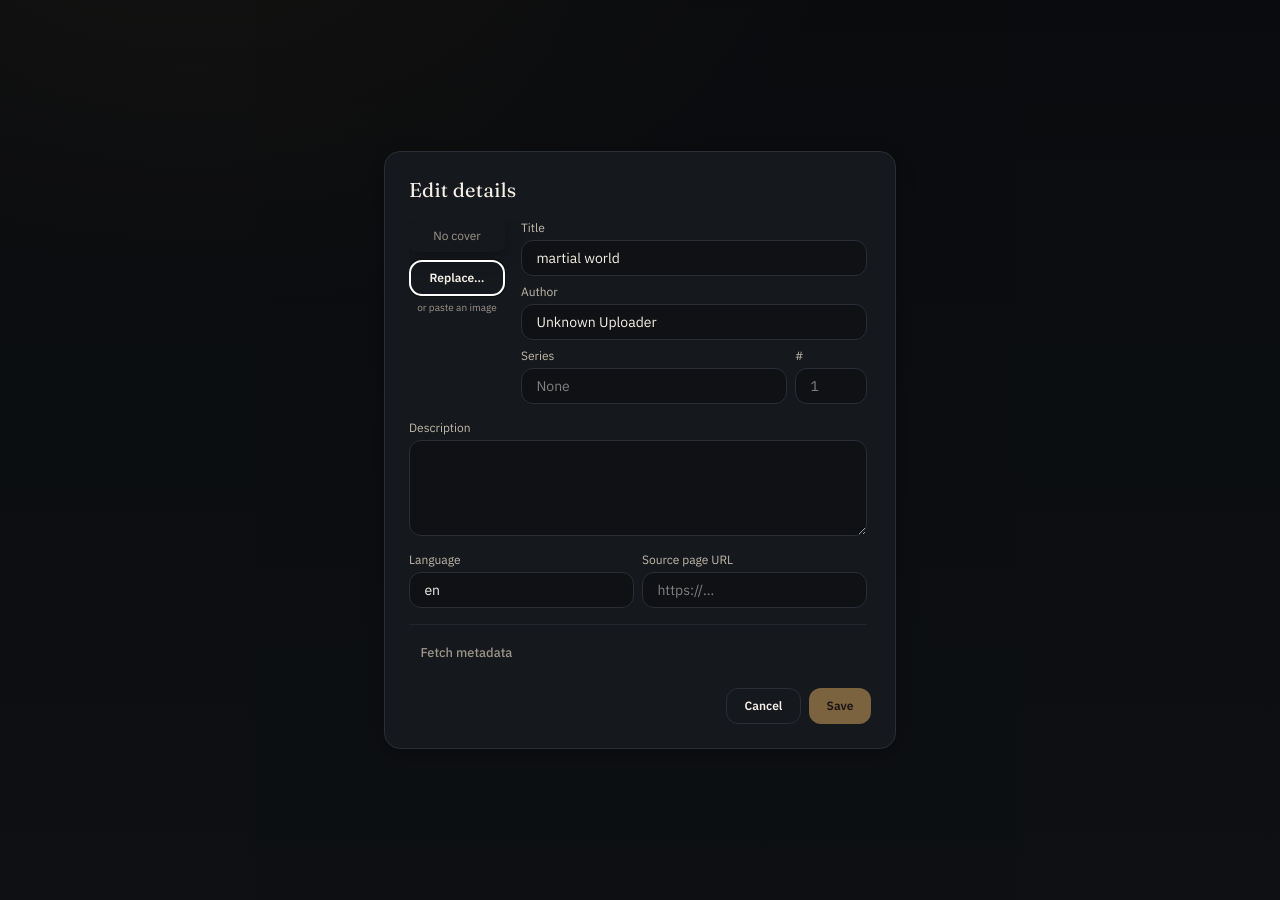
EditBookDialog › keeps saved details and offers paste guidance when a candidate cover can't be fetched
Click the button "Fetch metadata" at x=466, y=653, box [409, 637, 524, 668]
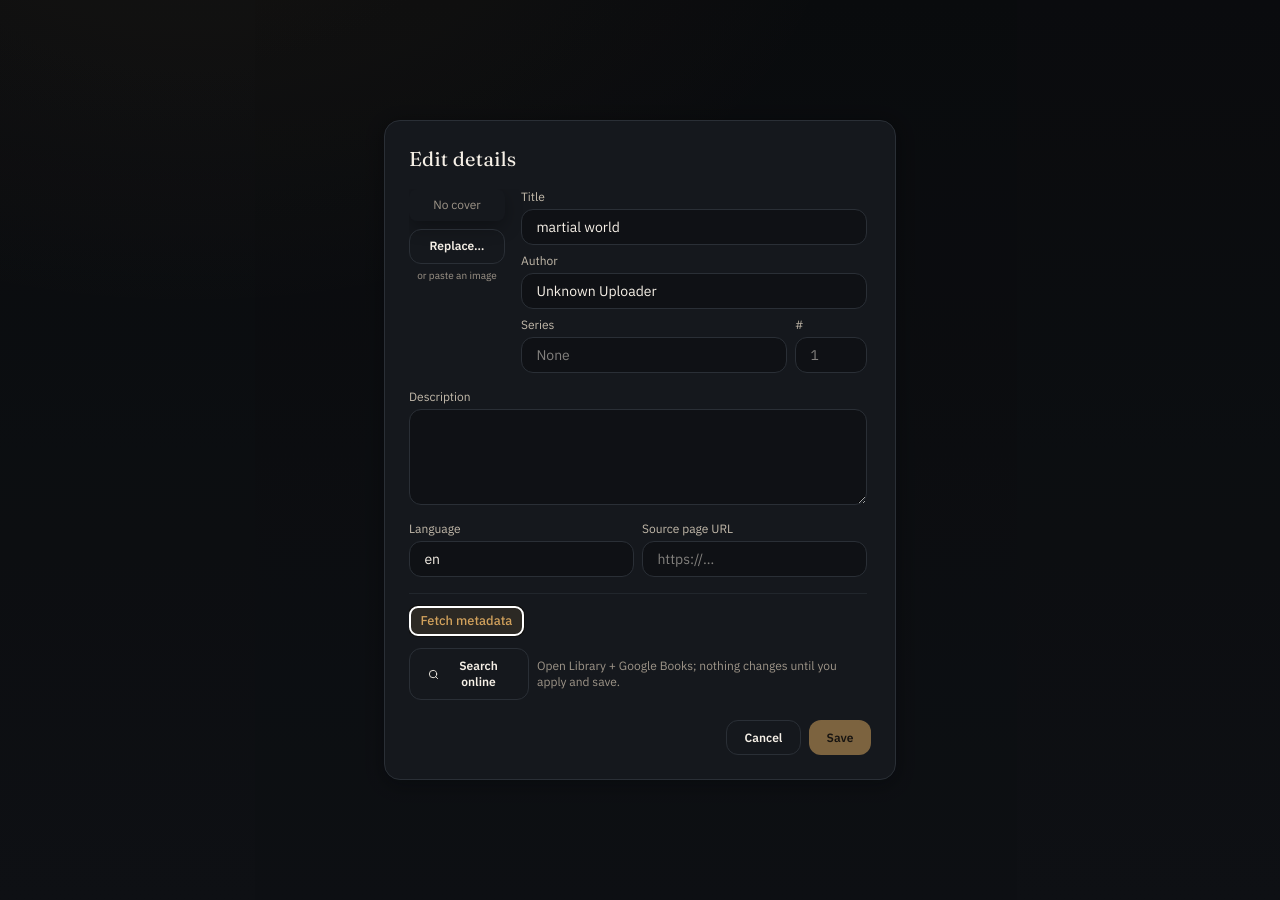
Click the button "Search online" at x=469, y=674, box [409, 648, 529, 700]
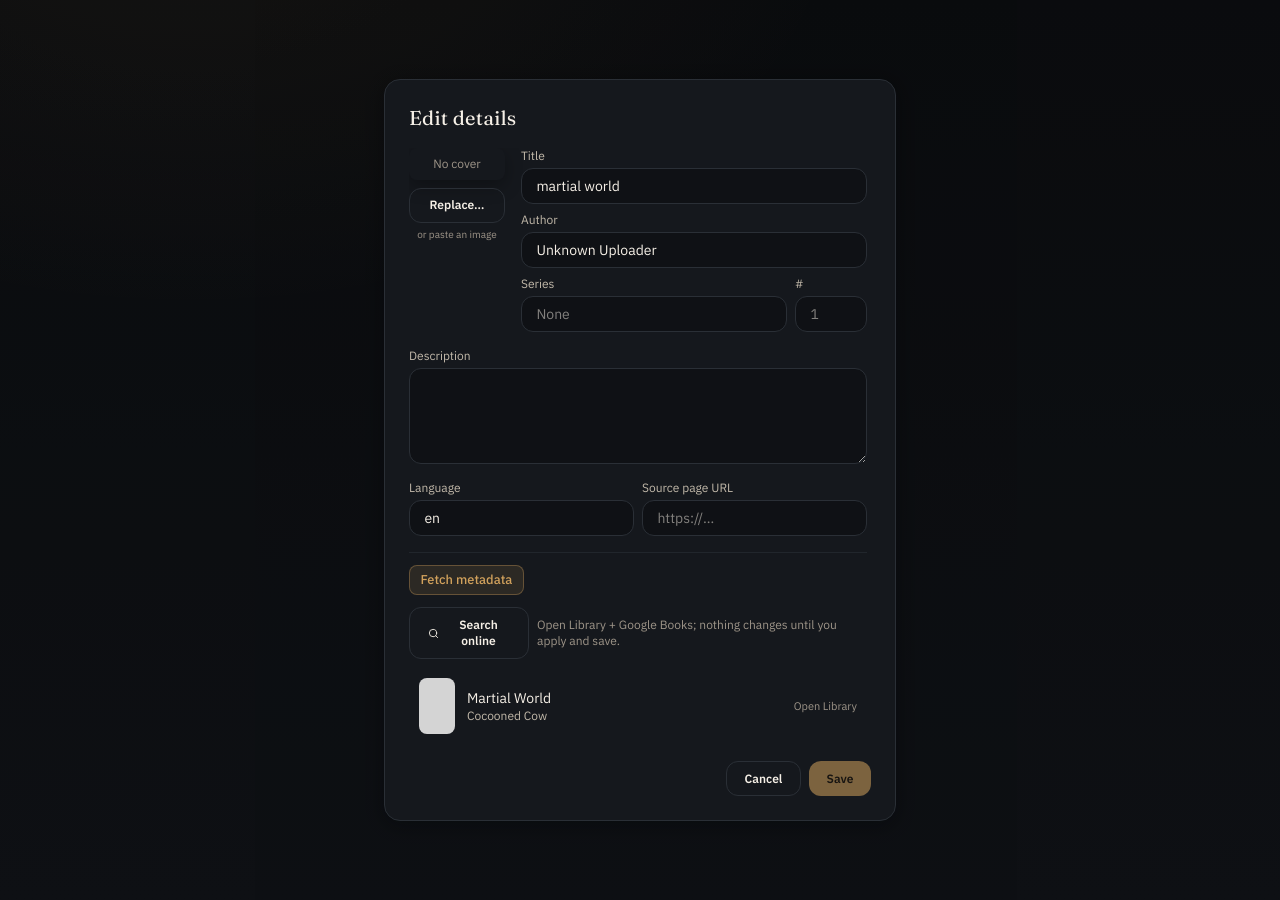
Click the button "Martial World Cocooned Cow Open Library" at x=437, y=706, box [409, 671, 867, 741]
(page scrolled)
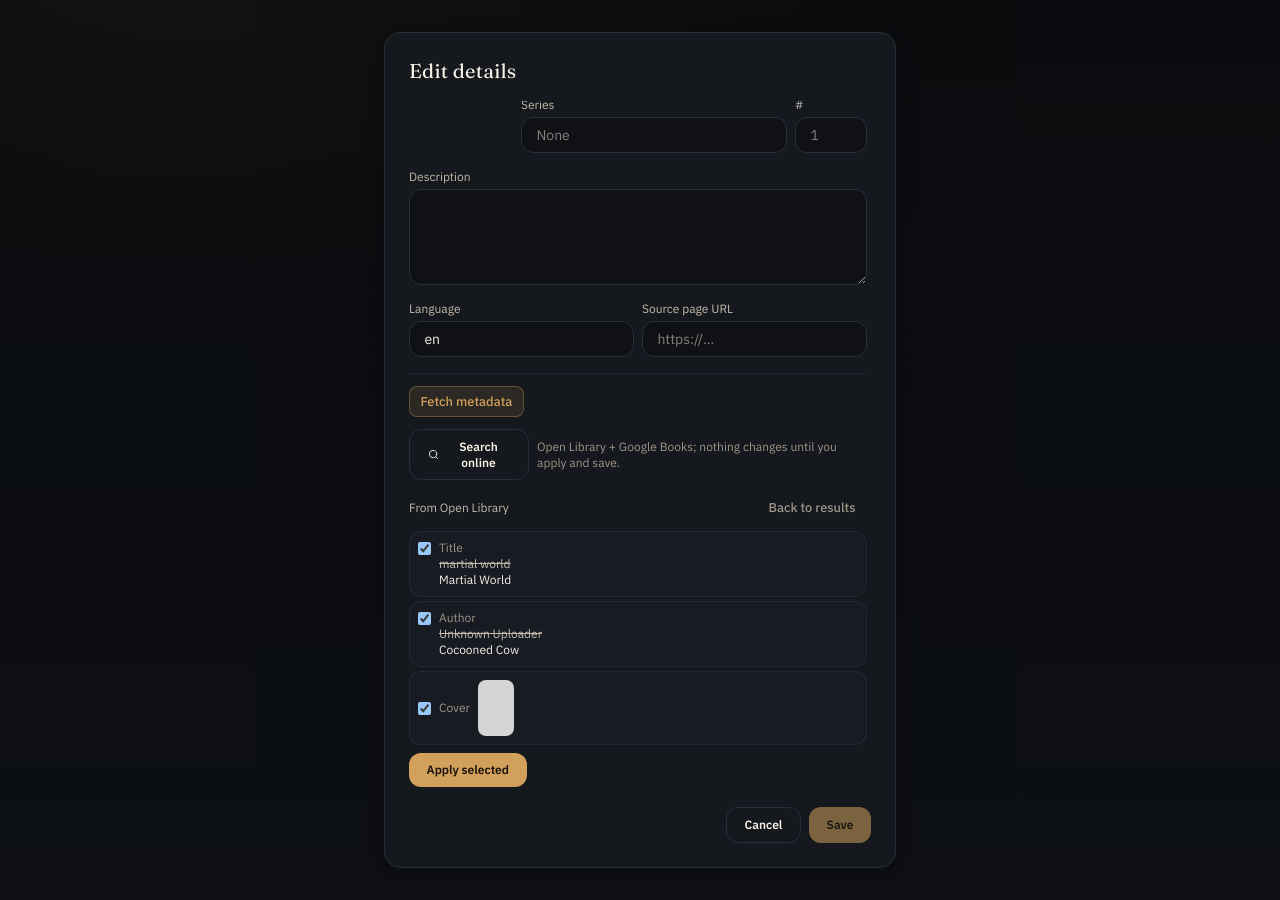
Click the button "Apply selected" at x=468, y=770, box [409, 753, 527, 787]
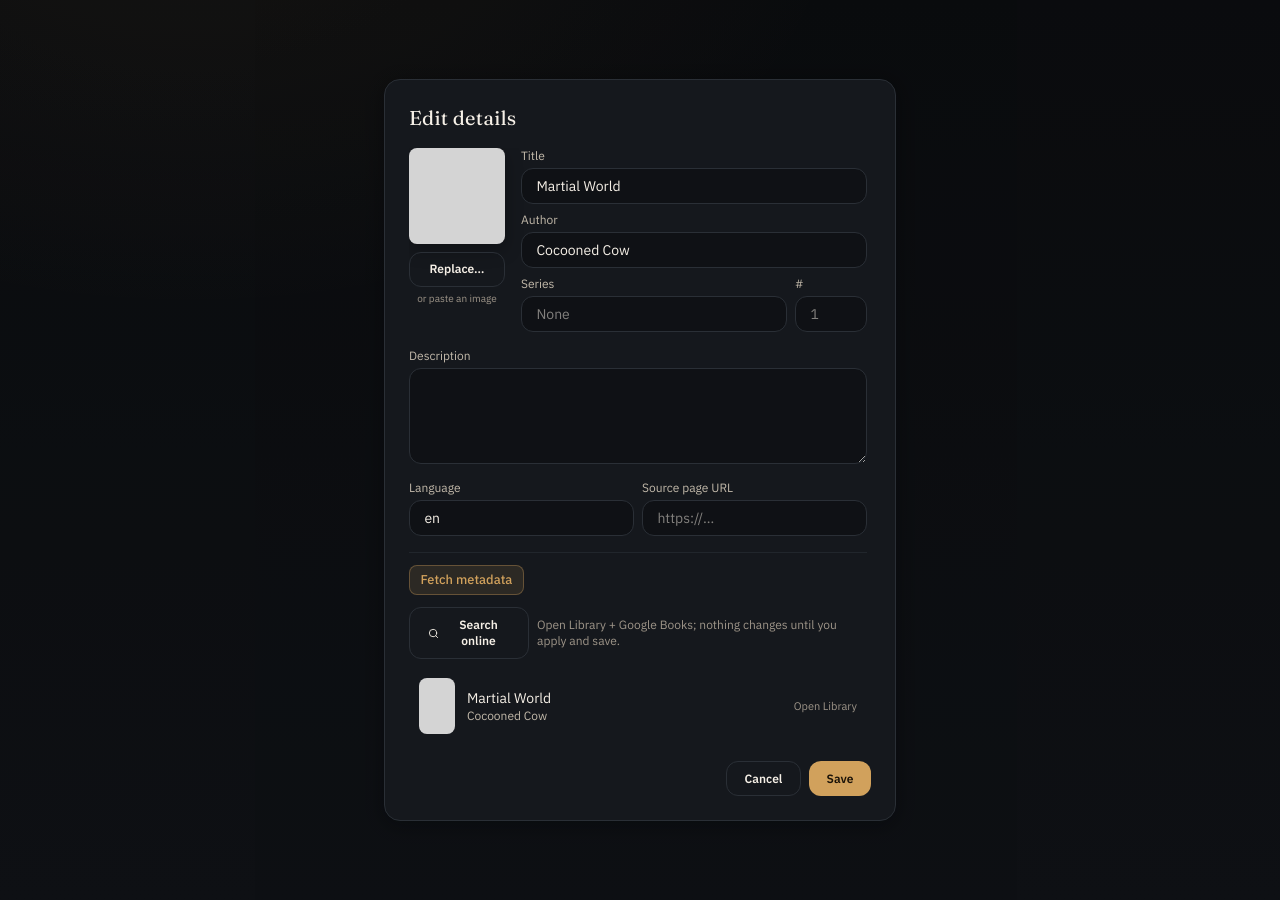
Click the button "Save" at x=840, y=779, box [809, 761, 871, 796]
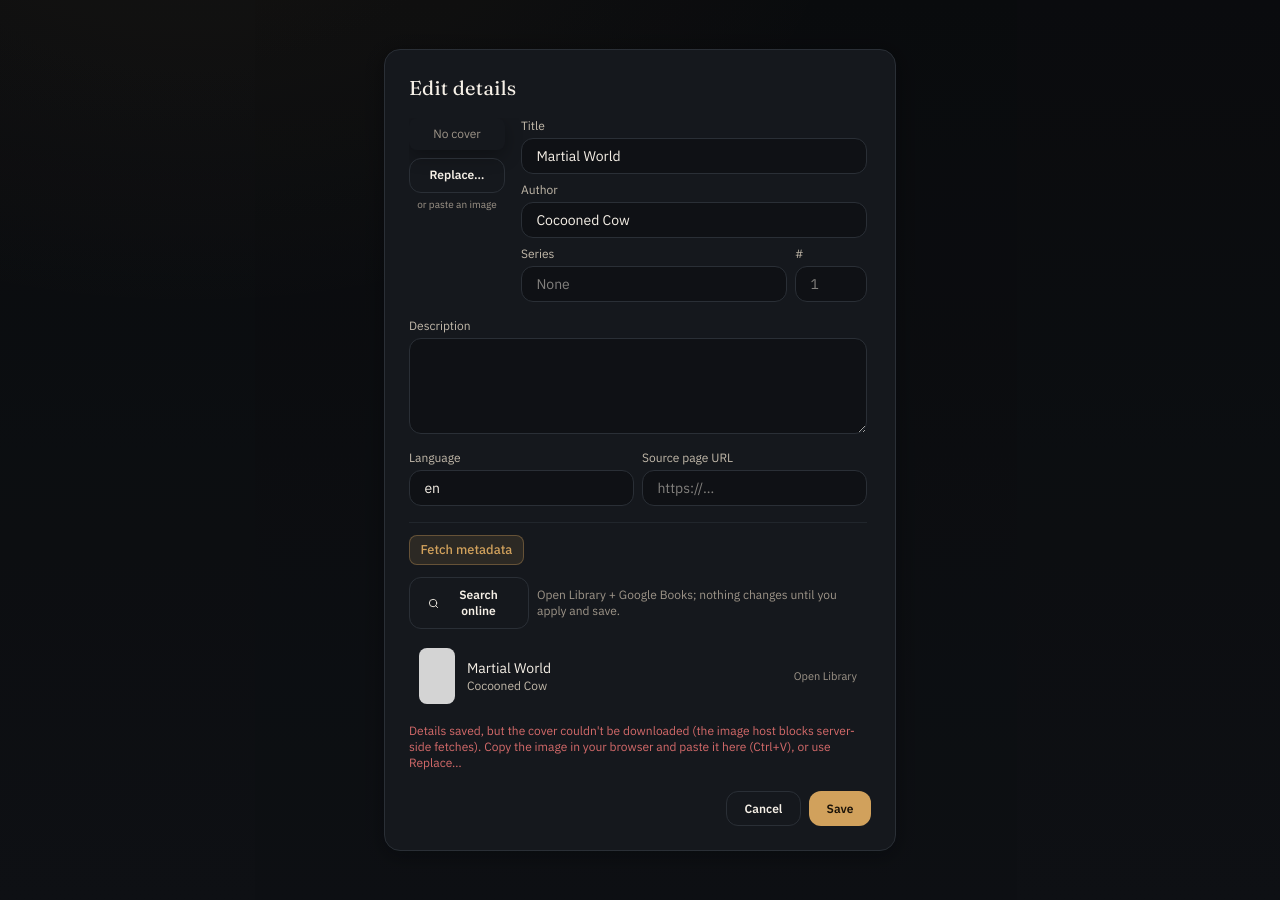
expect the text "Details saved, but the cover" is shown: met, box [409, 723, 855, 770]
